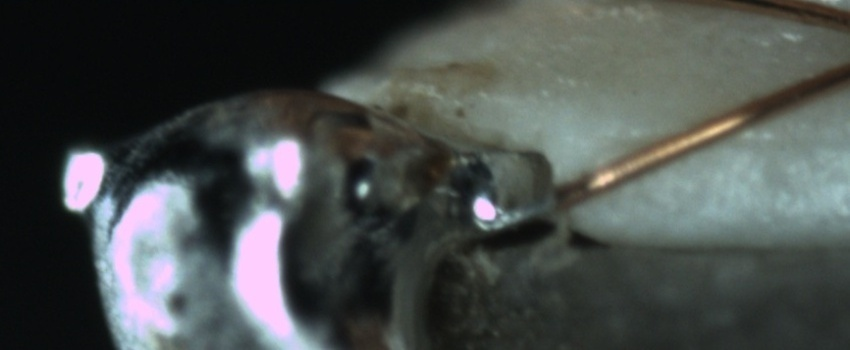DL: (616, 106, 849, 174)
TS: (474, 184, 558, 236)
